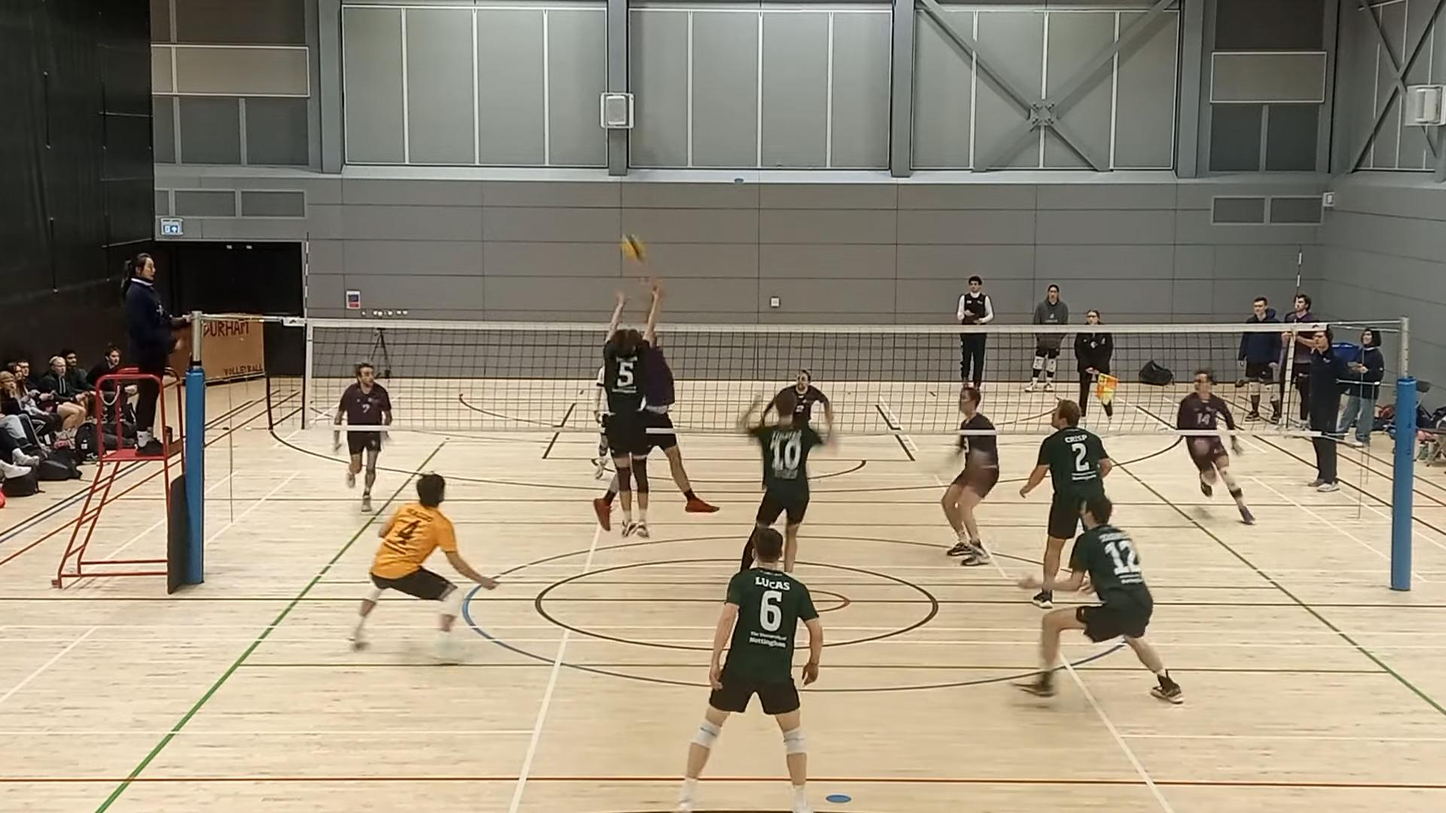attacco: (591, 280, 723, 516)
muro: (596, 280, 683, 536)
